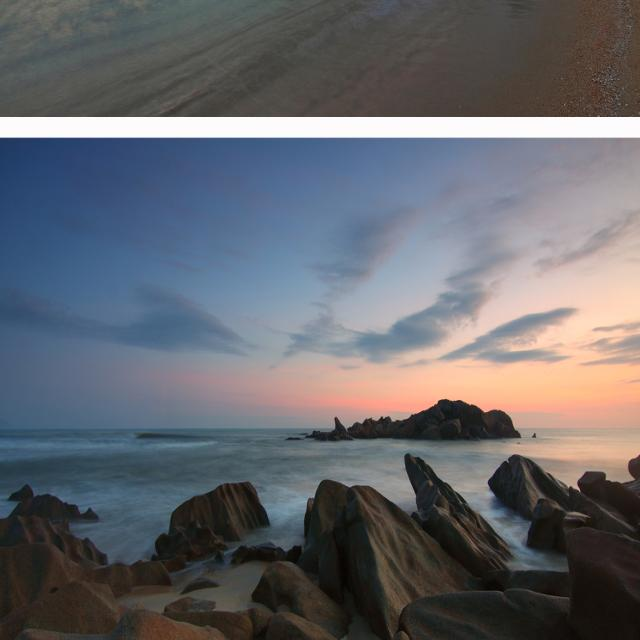island: (294, 388, 521, 444)
